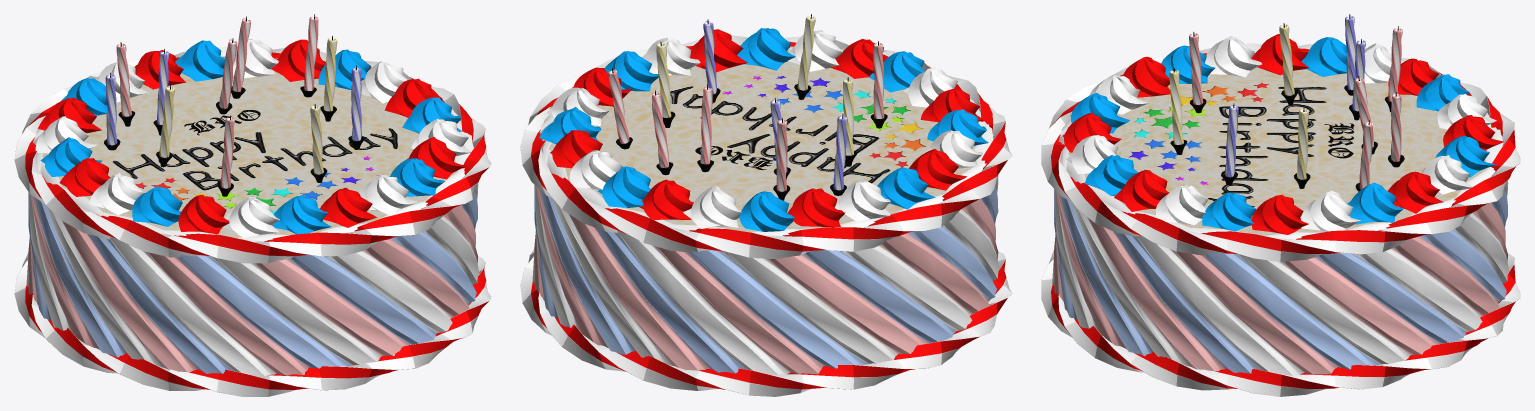
The model's file is bdaycake.gltf.
3 views of the same model, side by side, from view 1: azimuth 30°, elevation 25°; view 2: azimuth 150°, elevation 25°; view 3: azimuth 270°, elevation 25° (orthographic). The views are drawn at different scales.
Parts seen in each view (by area): view 1: 10868_birthday-cake_v3; view 2: 10868_birthday-cake_v3; view 3: 10868_birthday-cake_v3.
Boxes of the visible parts, x1,y1,x2,y2 form: 10868_birthday-cake_v3: [14, 14, 491, 396]; 10868_birthday-cake_v3: [520, 14, 1012, 396]; 10868_birthday-cake_v3: [1041, 14, 1520, 396].
Size of the model in its own units: 16.67 by 9.09 by 16.66.
Materials: 12 (1 with a texture image).
